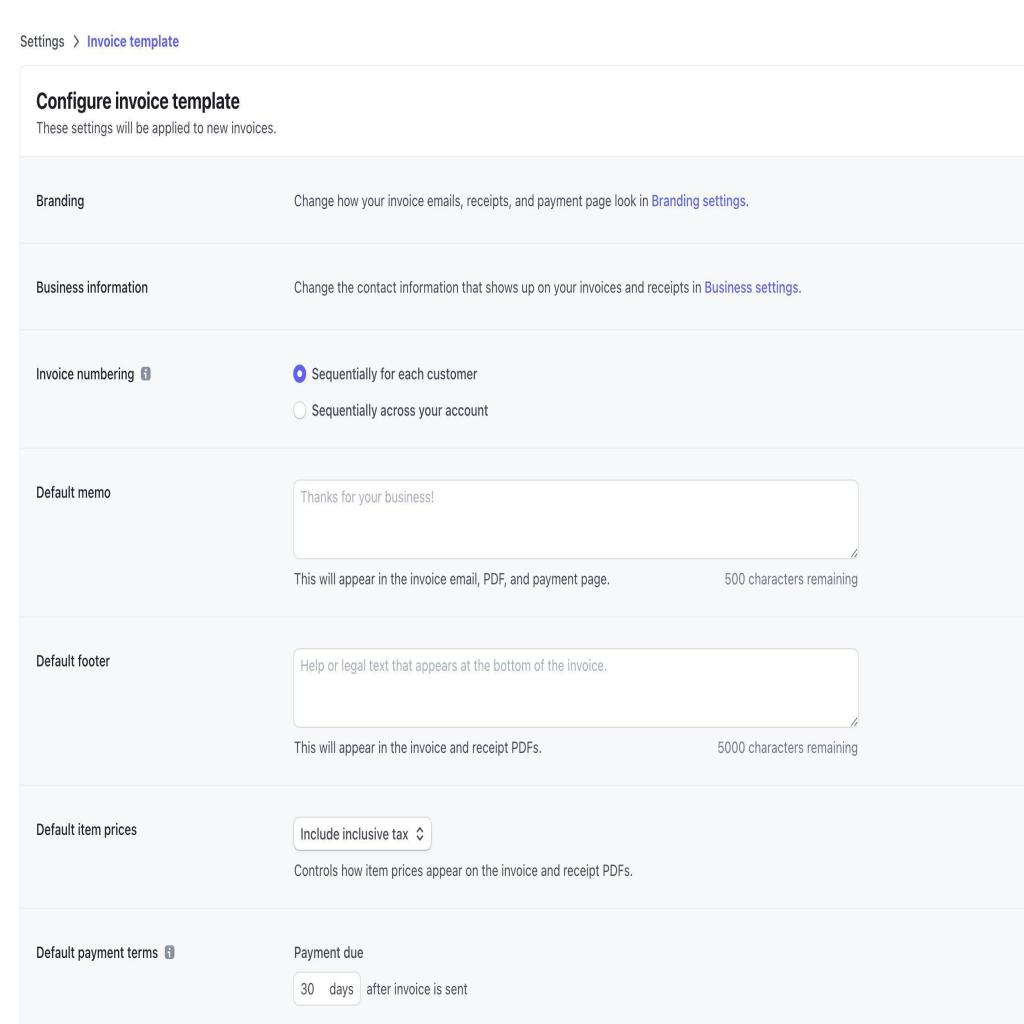dropdown: (292, 814, 432, 852)
icon: (139, 363, 153, 386), (163, 940, 177, 963)
input: (294, 970, 361, 1006)
label: (33, 274, 156, 304), (311, 364, 479, 384), (37, 940, 159, 964), (312, 404, 491, 420), (33, 816, 142, 842), (36, 364, 137, 388), (29, 650, 114, 676), (366, 979, 471, 1000), (34, 480, 112, 506), (30, 189, 86, 215), (294, 944, 368, 963)
radio: (291, 398, 308, 422), (292, 361, 307, 386)
